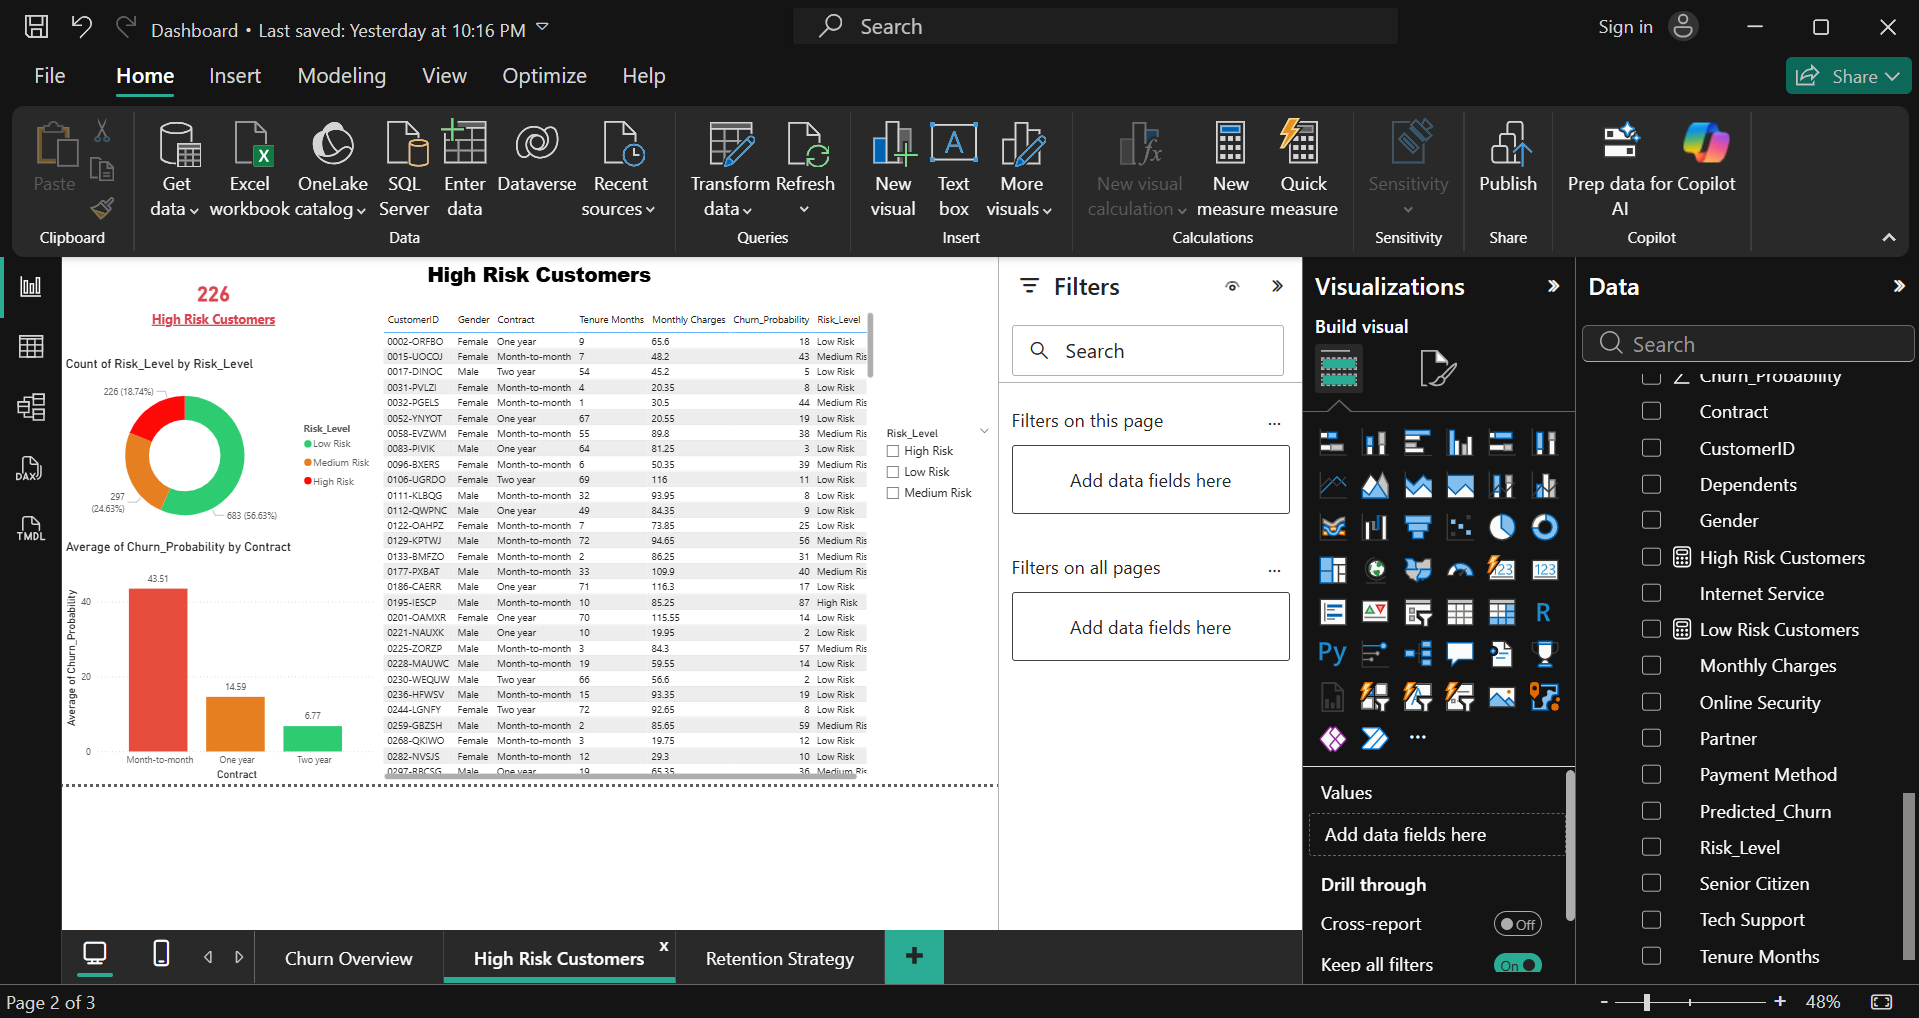

The dashboard page shown, as its layout file describes it:
{"tool":"powerbi","page":{"name":"High Risk Customers","canvas":[1280,720],"ordinal":1},"visuals":[{"type":"card","fields":{"Values":["churn_predictions.High Risk Customers"]},"box":[0,0,413.3,119.9],"z":0},{"type":"donutChart","fields":{"Category":["churn_predictions.Risk_Level"],"Y":["CountNonNull(churn_predictions.Risk_Level)"]},"box":[0,136.4,433.9,250],"z":1000},{"type":"clusteredColumnChart","fields":{"Category":["churn_predictions.Contract"],"Y":["Avg(churn_predictions.Churn_Probability)"]},"box":[0,386.4,433.9,332.7],"z":2000},{"type":"tableEx","fields":{"Values":["churn_predictions.CustomerID","churn_predictions.Gender","churn_predictions.Contract","churn_predictions.Tenure Months","churn_predictions.Monthly Charges","churn_predictions.Churn_Probability","churn_predictions.Risk_Level"]},"box":[433.9,70.3,679.8,648.8],"z":3000},{"type":"slicer","fields":{"Values":["churn_predictions.Risk_Level"]},"box":[1113.8,227.3,165.3,132.2],"z":4000},{"type":"textbox","box":[492.9,0,420,57.5],"z":5000}]}

Visuals, with their boxes on the page's 1280x720 design canvas (x1, y1, x2, y2). These are canvas units, not pixel positions in the 1919x1018 screenshot, which may show the page scaled, cropped or inside an application window:
card - churn_predictions.High Risk Customers: crop(0, 0, 413, 120)
donutChart - churn_predictions.Risk_Level x CountNonNull(churn_predictions.Risk_Level): crop(0, 136, 434, 386)
clusteredColumnChart - churn_predictions.Contract x Avg(churn_predictions.Churn_Probability): crop(0, 386, 434, 719)
tableEx - churn_predictions.CustomerID x churn_predictions.Gender: crop(434, 70, 1114, 719)
slicer - churn_predictions.Risk_Level: crop(1114, 227, 1279, 360)
textbox: crop(493, 0, 913, 58)
